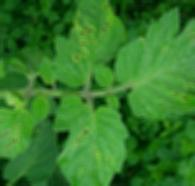Tomato leaf bacterial spot: (117, 8, 195, 125), (56, 92, 137, 186), (49, 0, 125, 89), (0, 100, 39, 160)
